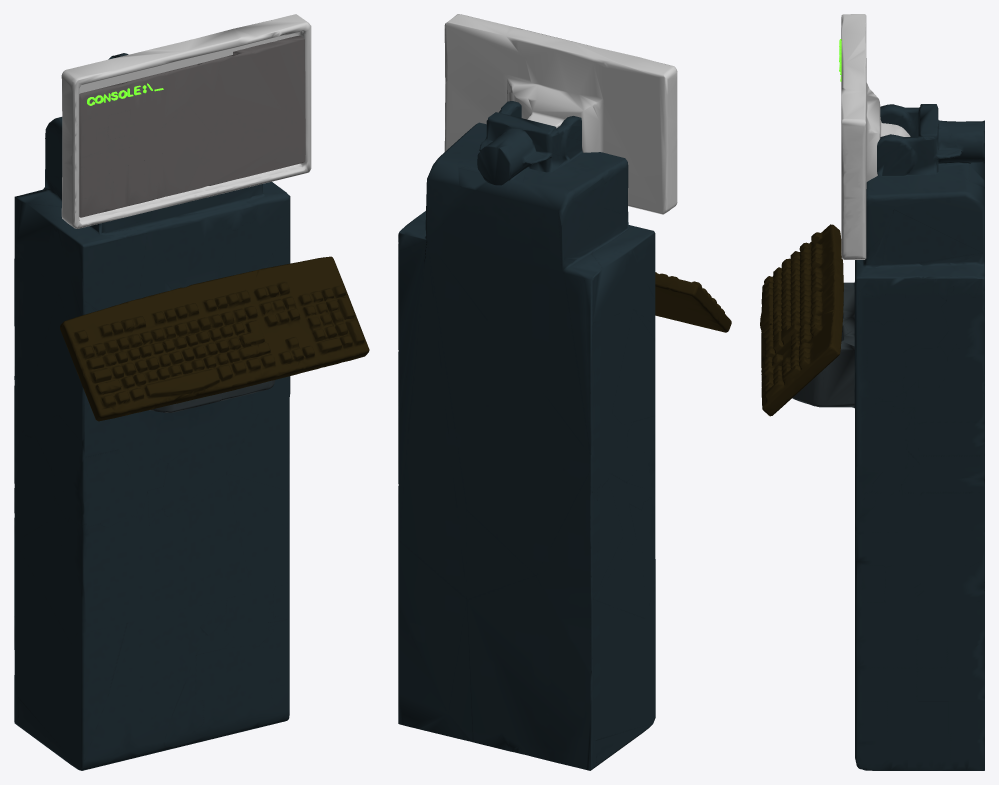
3 views of the same model, side by side, from view 1: azimuth 30°, elevation 25°; view 2: azimuth 150°, elevation 25°; view 3: azimuth 270°, elevation 25° (orthographic). The views are drawn at different scales.
Parts seen in each view (by area): view 1: Layer_2, Layer_3, Layer_4, Layer_1; view 2: Layer_2, Layer_1, Layer_3; view 3: Layer_2, Layer_3, Layer_1.
Boxes of the visible parts, box(x1,y1,x2,y2) form: Layer_2: box(14, 53, 290, 770); Layer_3: box(60, 256, 369, 421); Layer_4: box(79, 35, 305, 217); Layer_1: box(61, 14, 311, 228); Layer_2: box(398, 101, 655, 770); Layer_1: box(444, 14, 677, 214); Layer_3: box(655, 272, 731, 332); Layer_2: box(792, 104, 984, 770); Layer_3: box(760, 224, 843, 416); Layer_1: box(841, 14, 910, 259).
Size of the model in its own units: 0.6292 by 1.57 by 0.4853.
